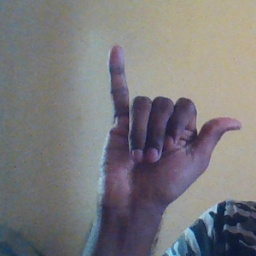J: (93, 43, 243, 200)
